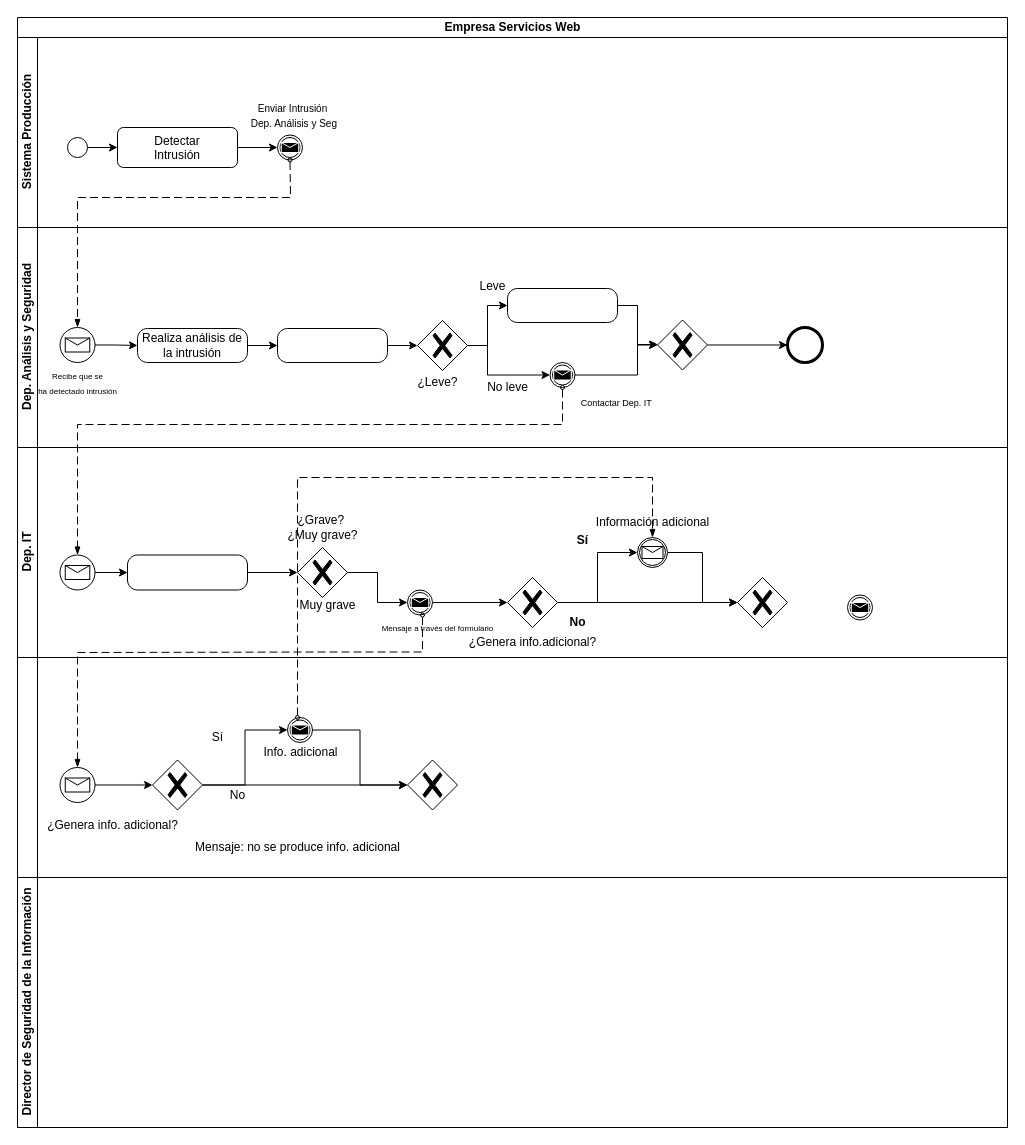
Some shapes in this 1025 by 1145 pixel diagram are drawn without their labels. Here are the shapes that lost their labels. From the top down, the box of each, then its label:
(506, 288, 618, 322): Actualizar BBDD
(276, 328, 388, 362): Clasifica intrusión
(126, 554, 248, 590): Realizar inventariado
(16, 656, 1008, 878): INCIBE-CERT
